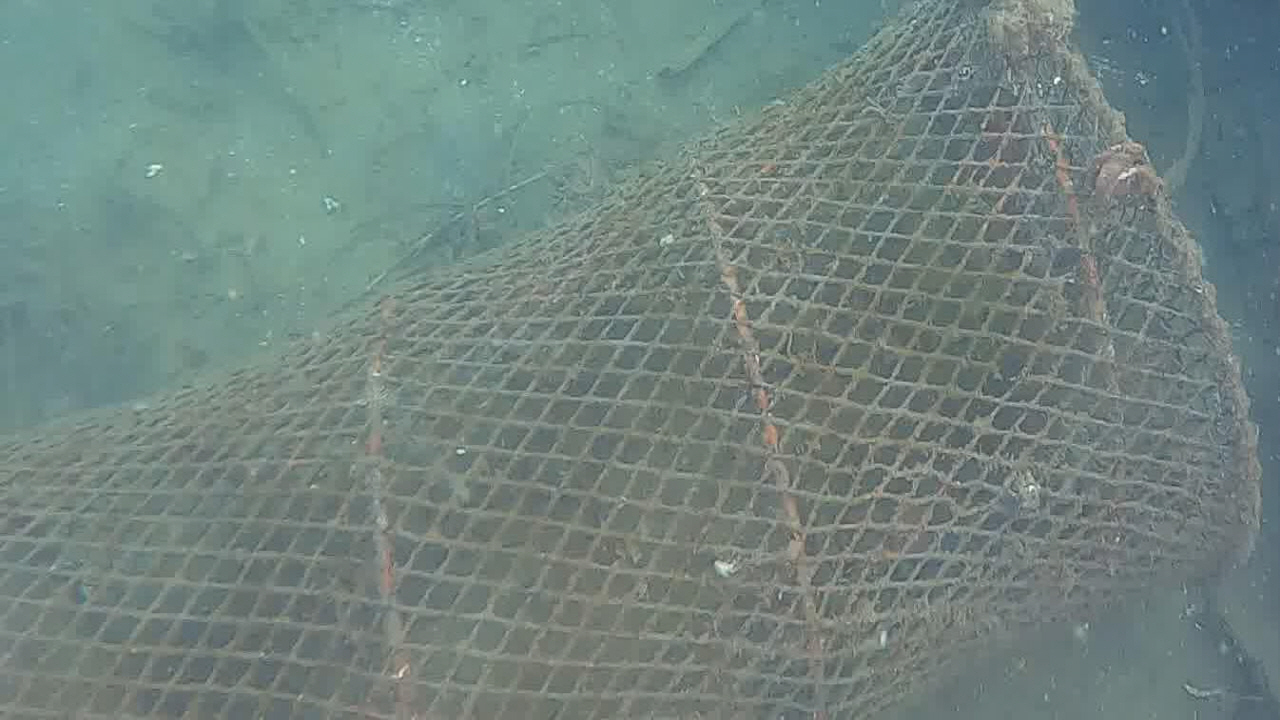bundle of ropes: (1156, 0, 1206, 196)
spring fish trap: (0, 0, 1259, 720)
